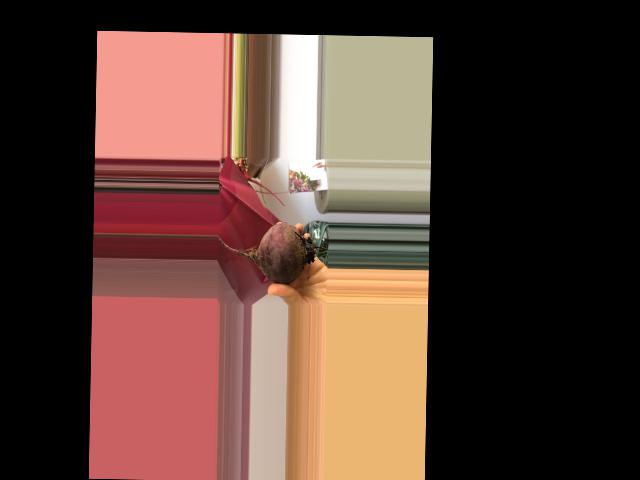beet: (217, 221, 328, 284)
